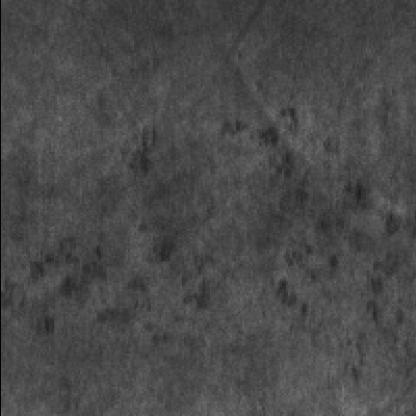rolled-in_scale: (214, 108, 406, 320), (4, 127, 206, 322)
